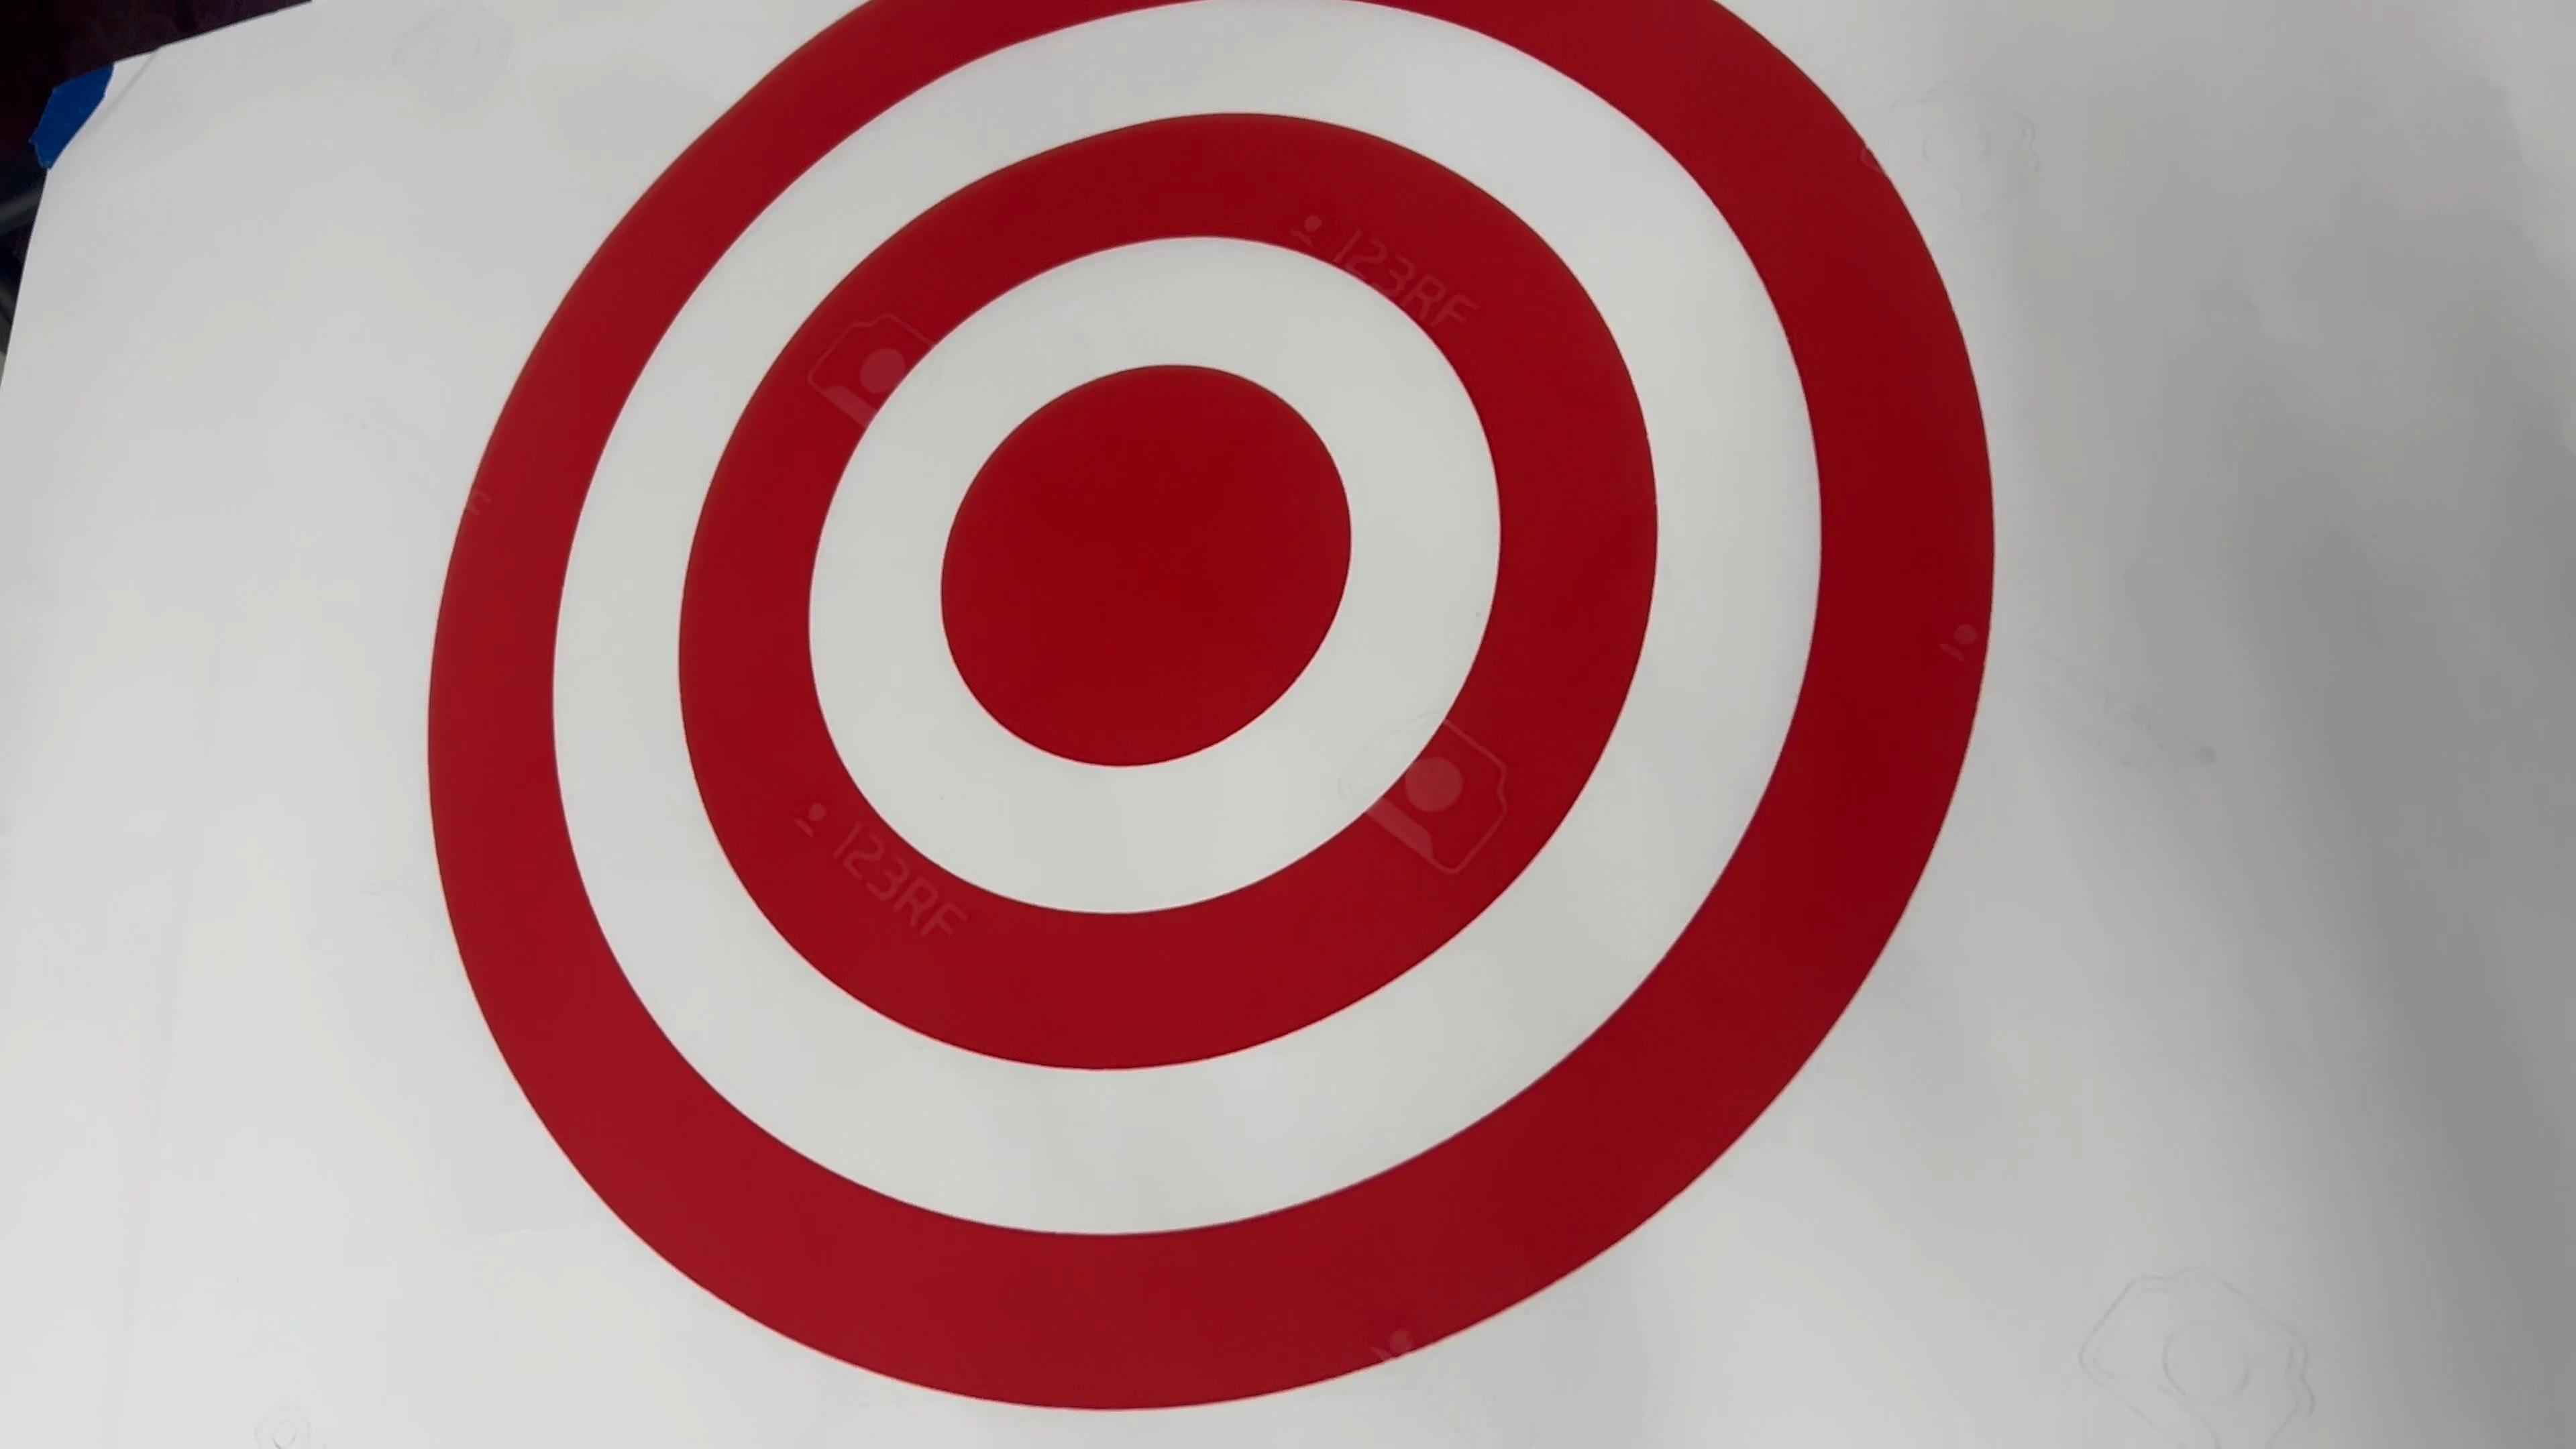target_red: (373, 0, 2063, 1410)
